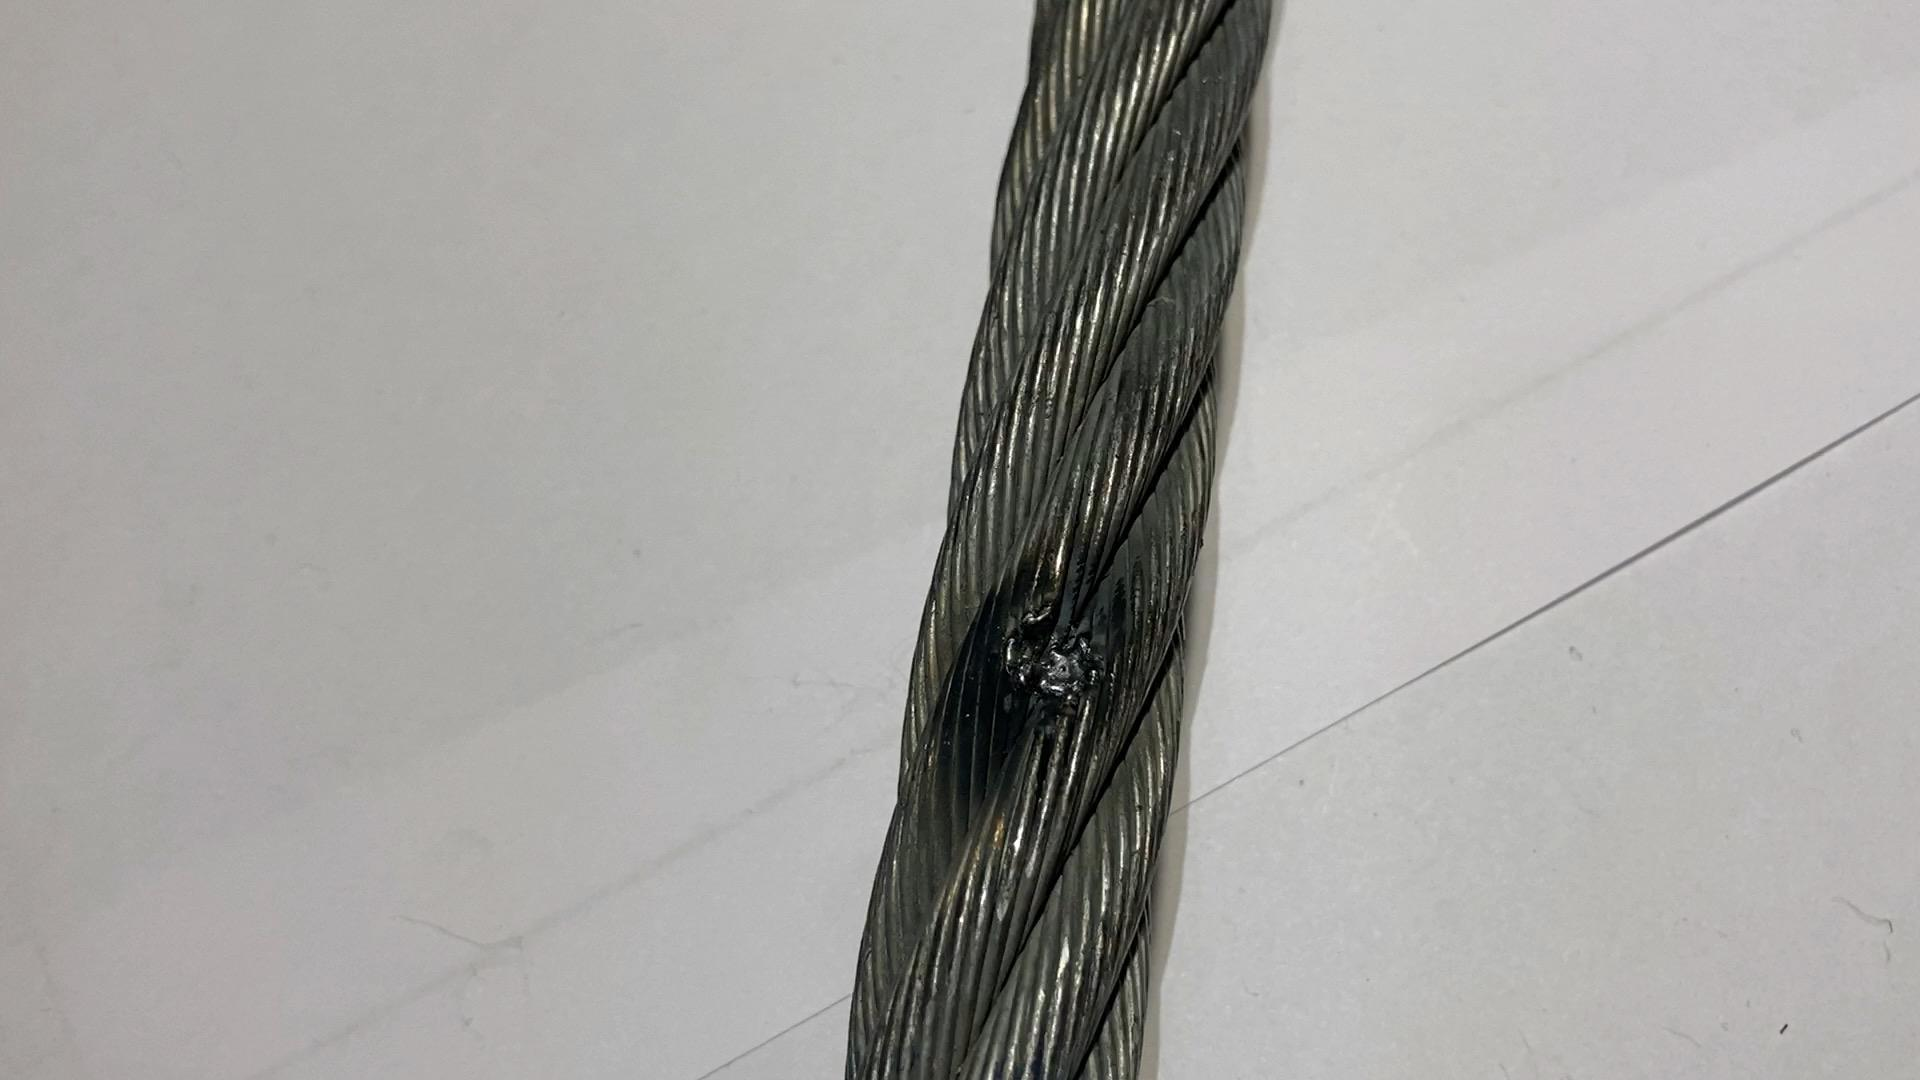thunderbolt: (971, 580, 1124, 713)
